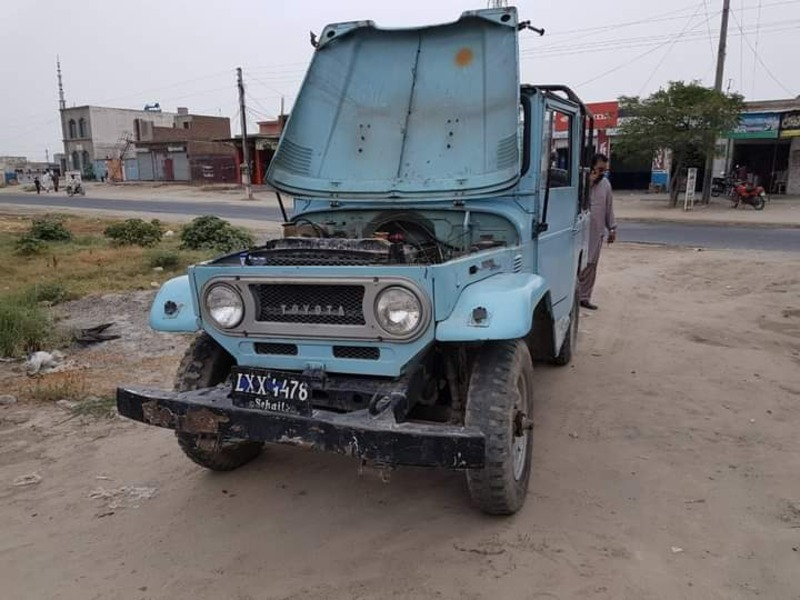License Plate: (227, 364, 317, 422)
